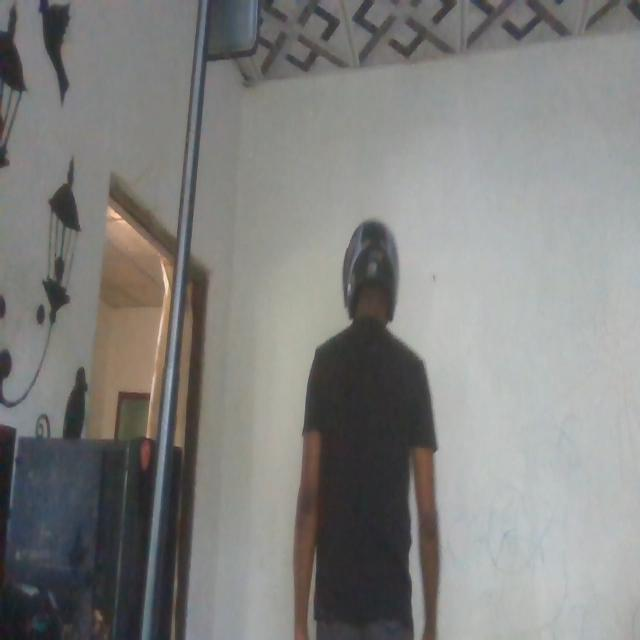Helmet_Wearer: (334, 209, 404, 351)
Person: (296, 208, 446, 640)
